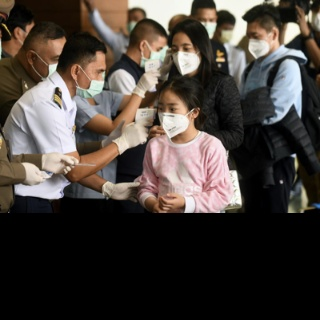with_mask: (159, 100, 191, 139), (171, 40, 201, 76), (37, 48, 64, 82), (81, 66, 106, 100), (248, 29, 271, 57), (144, 43, 166, 68), (196, 15, 218, 36), (217, 26, 233, 44)
